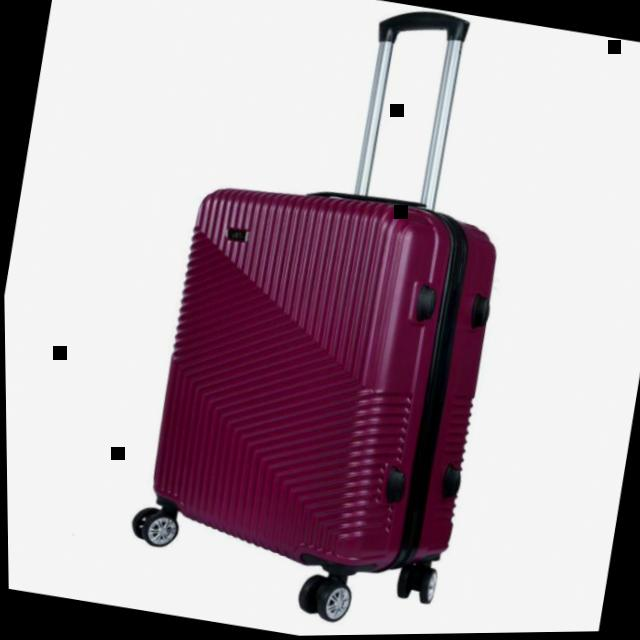luggage: (128, 155, 515, 602)
